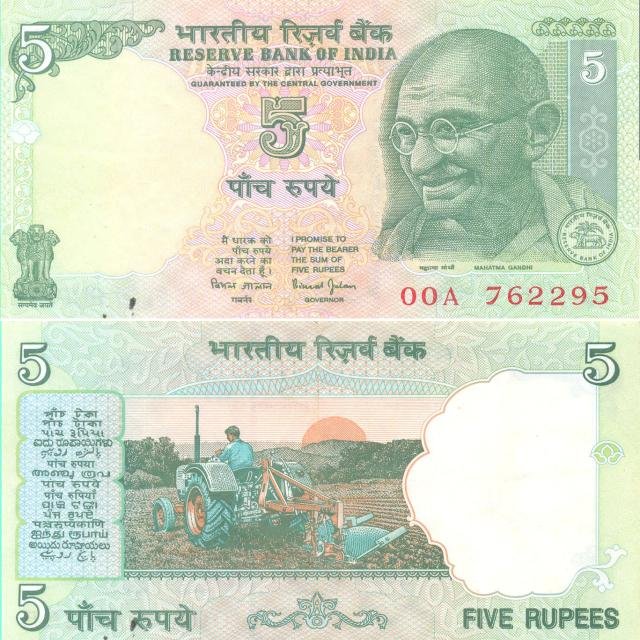5IndianRupees: (0, 325, 640, 640)
